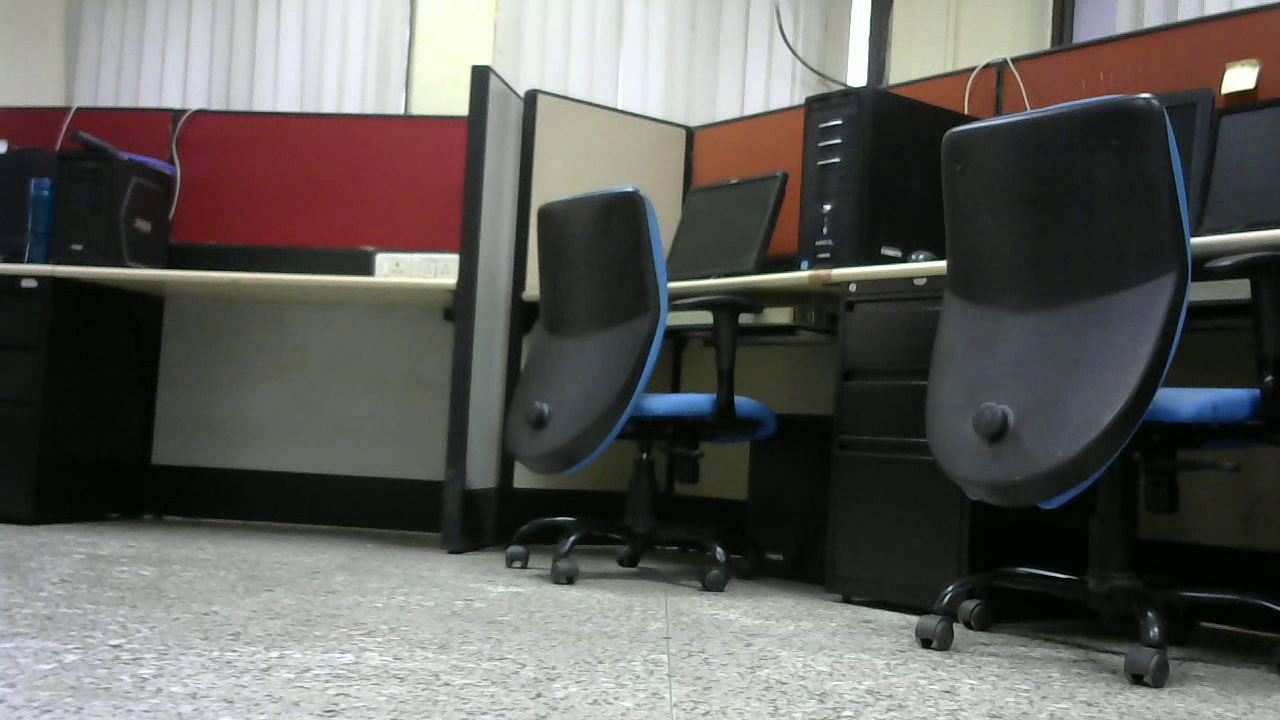chair: (908, 85, 1280, 690), (493, 191, 783, 592)
